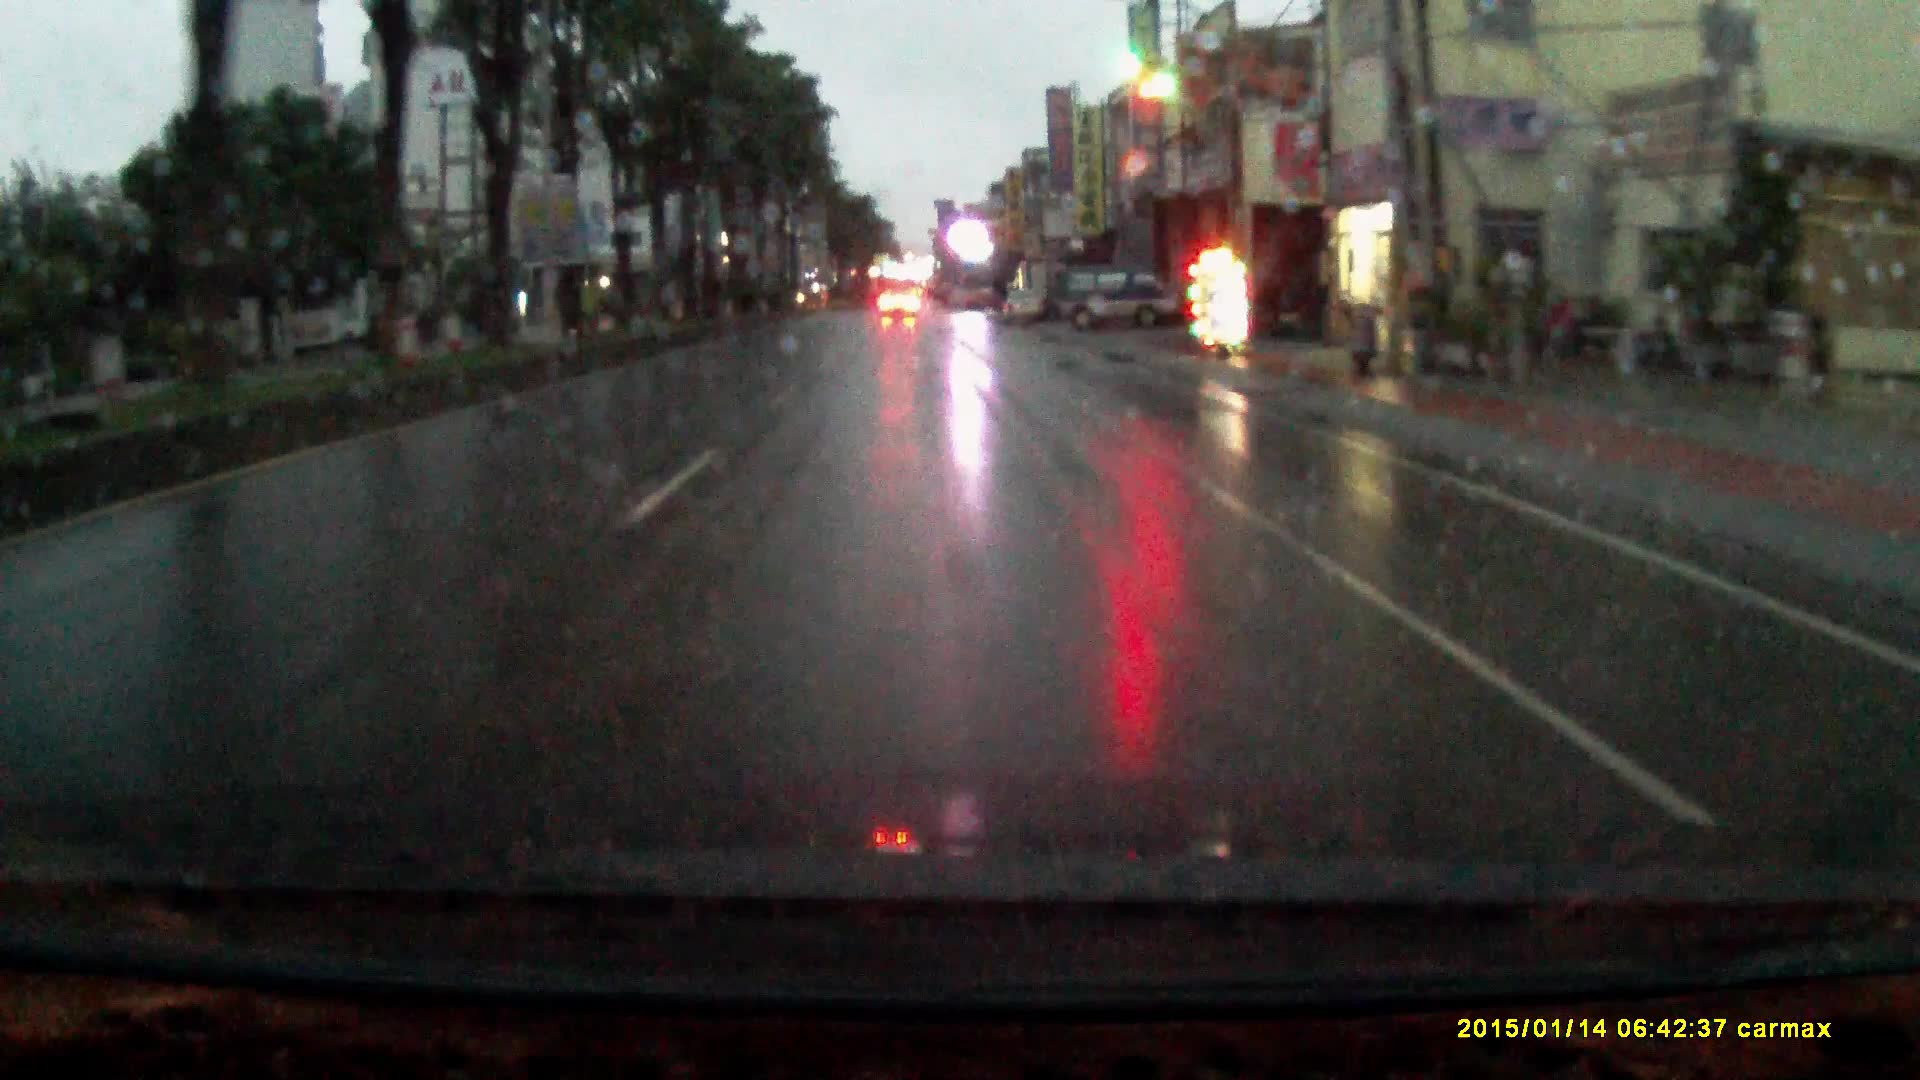vehicle: (1055, 269, 1182, 338), (1001, 290, 1046, 324), (878, 285, 920, 318)
